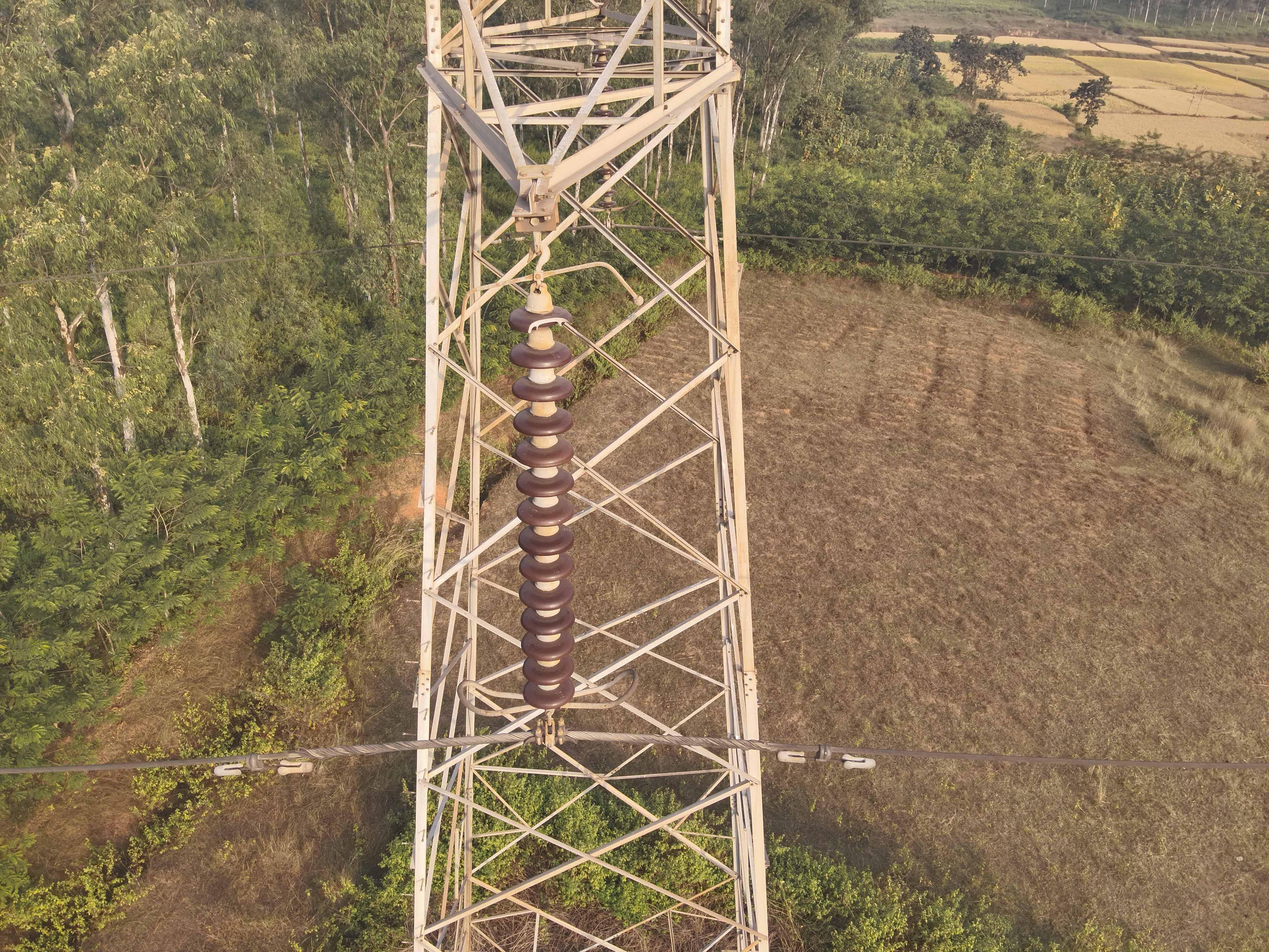broken_insulator: (498, 300, 583, 336)
